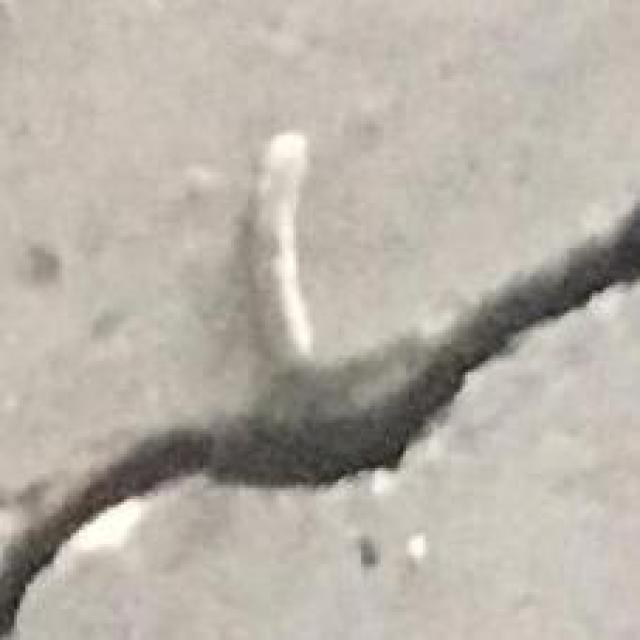diagonal crack: (0, 203, 639, 635)
